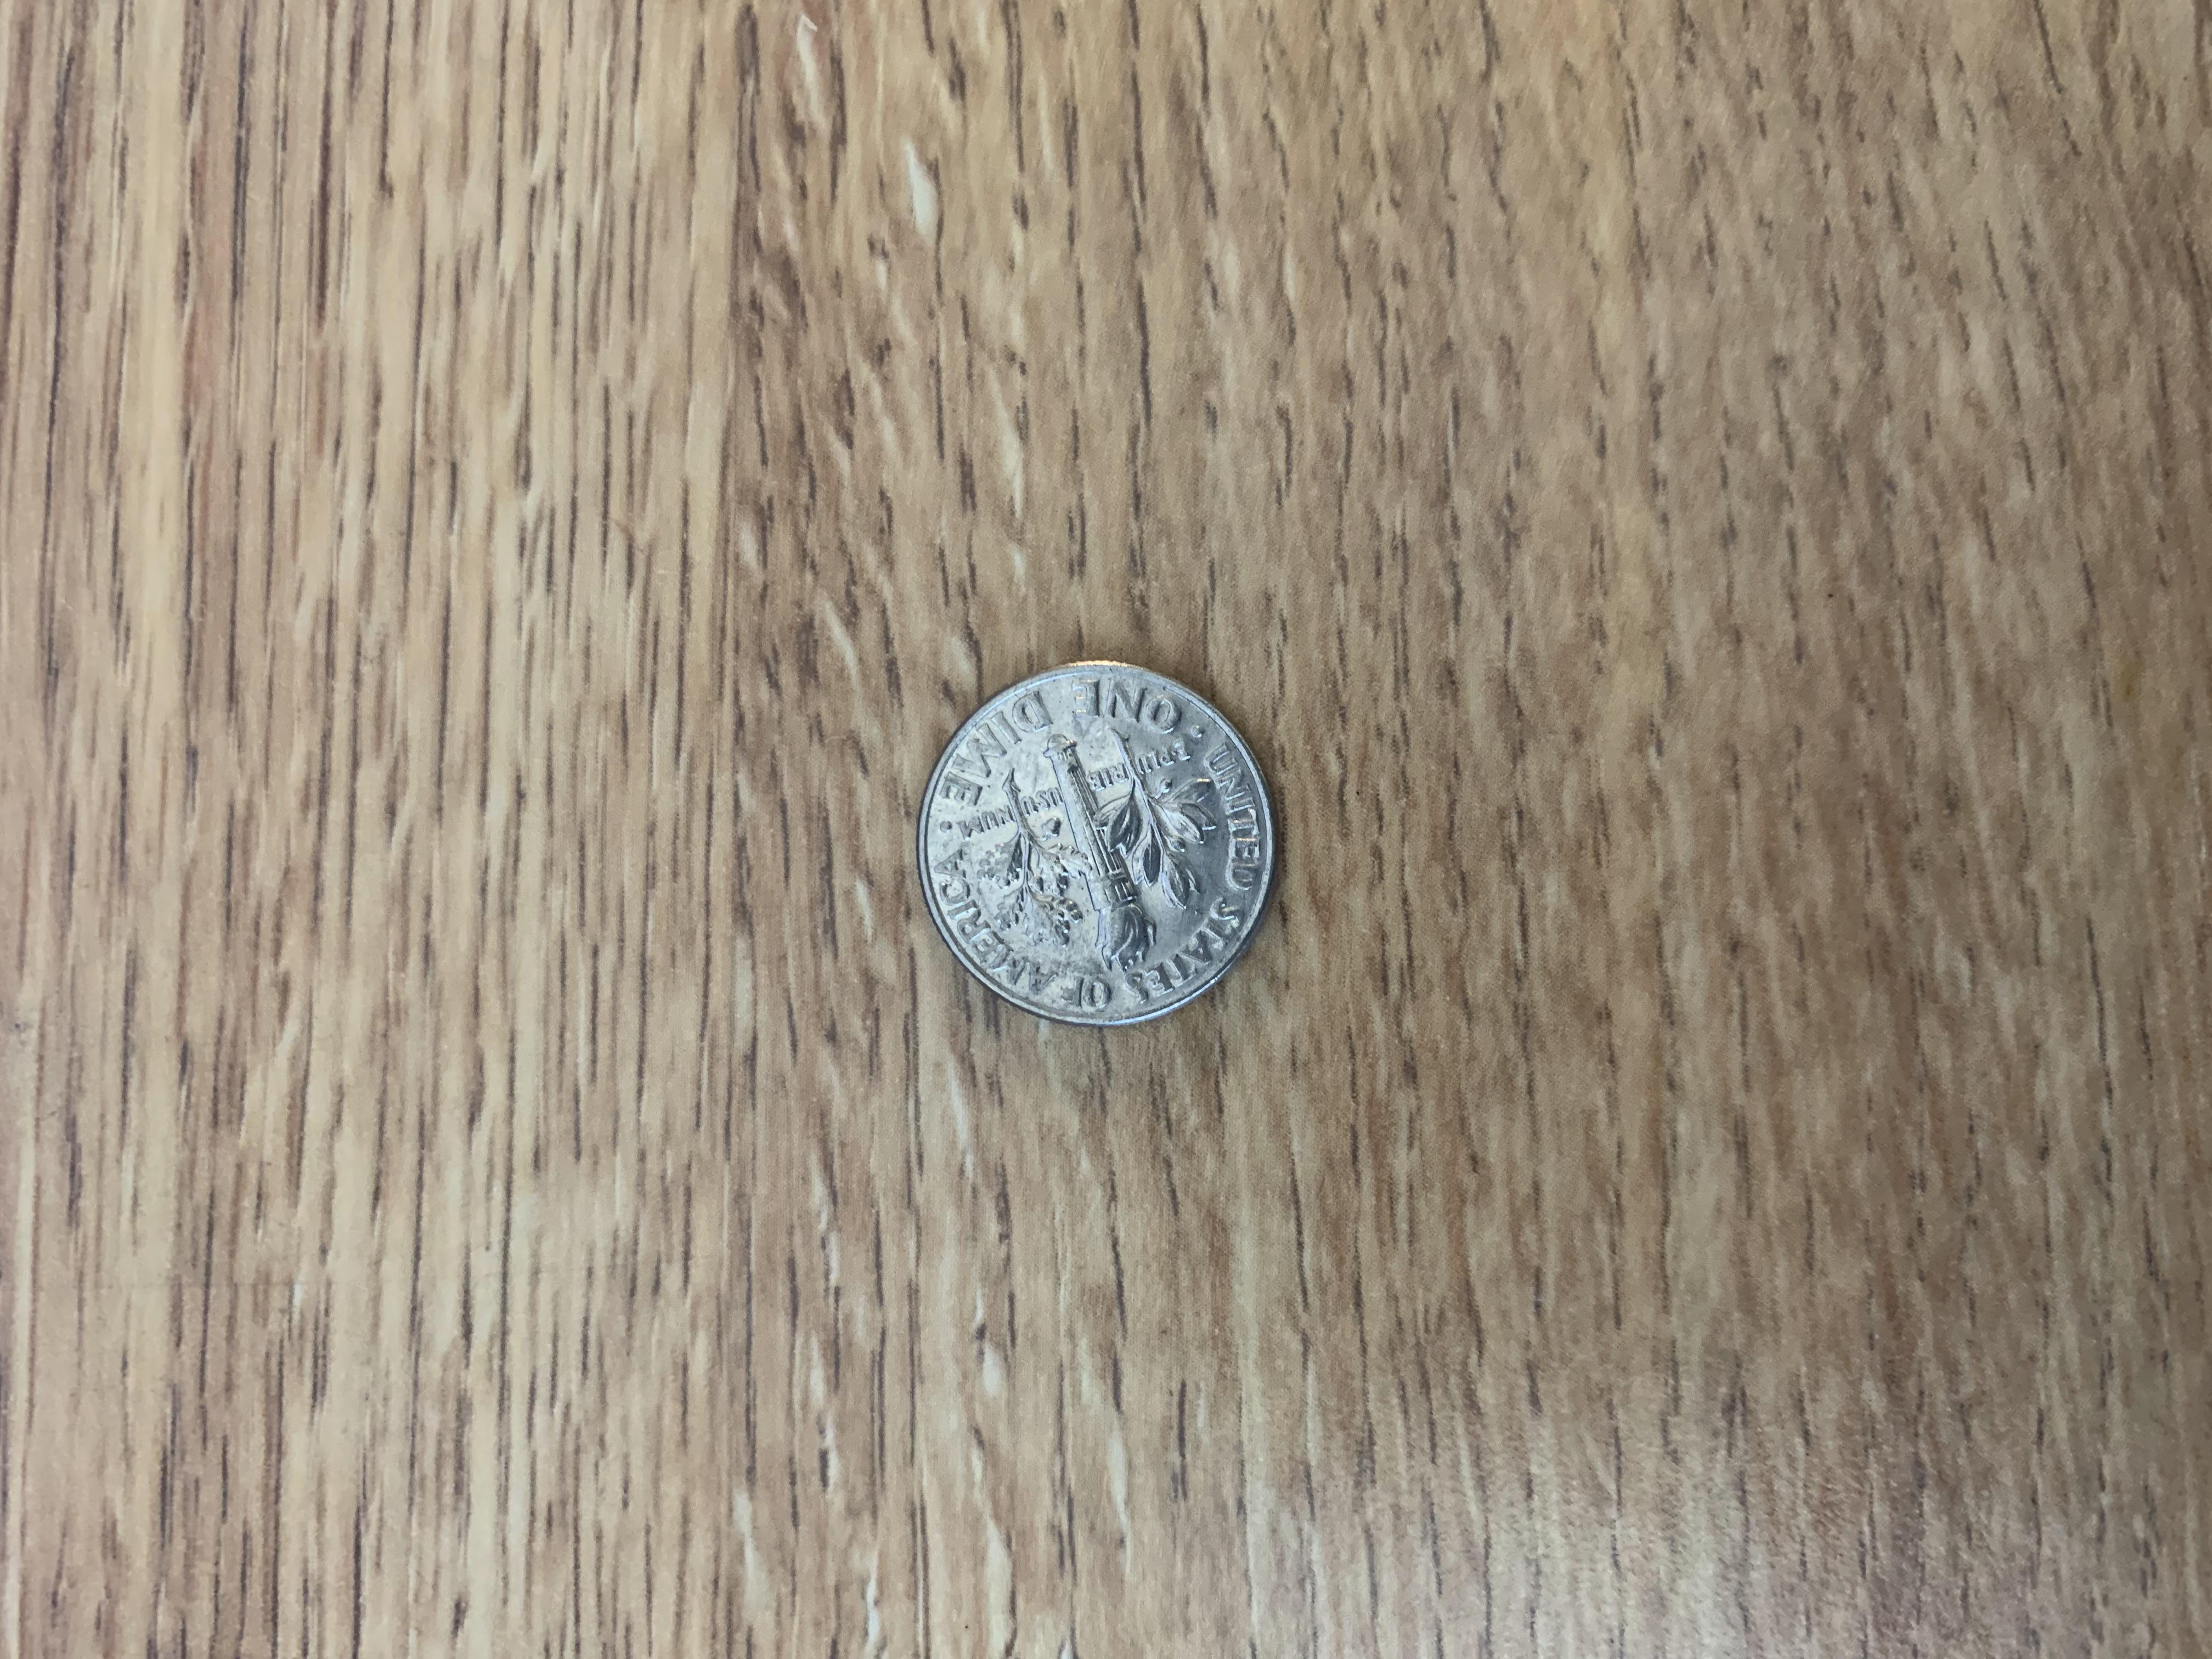Dime: (906, 647, 1291, 1033)
